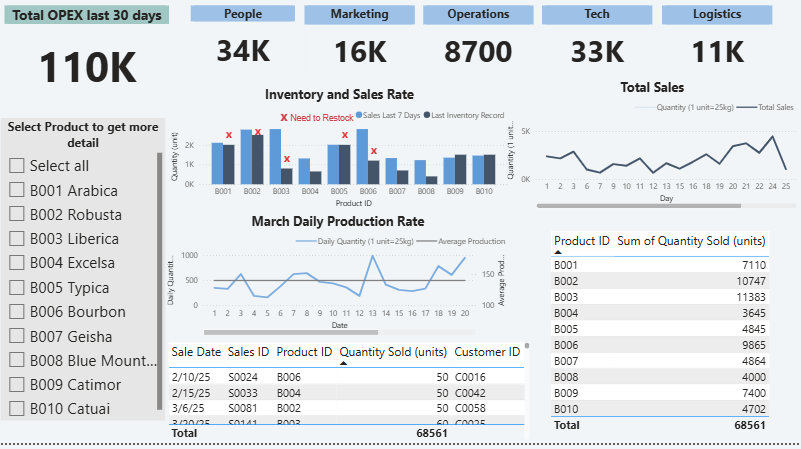

Layout of this report page (visuals, bound fields, positions):
{"tool":"powerbi","page":{"name":"Page 2","canvas":[1280,720],"ordinal":0},"visuals":[{"type":"card","title":"Total OPEX last 30 days","fields":{"Values":["OPEX.OPEX Last 30 days"]},"box":[27.6,34.5,257.7,158.7],"z":0},{"type":"card","title":"People","fields":{"Values":["OPEX.OPEX Last 30 days"]},"box":[319.8,34.5,163.3,115],"z":1000},{"type":"card","title":"Marketing","fields":{"Values":["OPEX.OPEX Last 30 days"]},"box":[496.9,34.5,172.5,115],"z":2000},{"type":"card","title":"Operations","fields":{"Values":["OPEX.OPEX Last 30 days"]},"box":[683.3,34.5,172.5,115],"z":3000},{"type":"card","title":"Tech","fields":{"Values":["OPEX.OPEX Last 30 days"]},"box":[869.6,34.5,172.5,115],"z":4000},{"type":"card","title":"Logistics","fields":{"Values":["OPEX.OPEX Last 30 days"]},"box":[1055.9,34.5,172.5,115],"z":5000},{"type":"clusteredColumnChart","title":"Inventory and Sales Rate","fields":{"Category":["Product Information.Product ID"],"Y":["Sales record.Sales Last 7 Days","Inventory.Last Inventory Record"]},"box":[283,161,536,197.8],"z":6000},{"type":"slicer","title":"Select Product to get more detail","fields":{"Values":["Product Information.ID+Name"]},"box":[20.7,211.6,257.7,473.9],"z":7000},{"type":"lineChart","title":"March Daily Production Rate","fields":{"Category":["Production Data.Production Date.Variation.Date Hierarchy.Day"],"Y":["Sum(Mar 2025 Production Data.Quantity (1 unit=25kg))"],"Y2":["Avg(Mar 2025 Production Data.Average Production)"]},"box":[278.4,358.9,542.9,197.8],"z":8000},{"type":"textbox","box":[431.6,196.5,167.9,32.2],"z":9000},{"type":"lineChart","title":"Total Sales","fields":{"Y":["Sales record.Sales Last 30 Days","Sales record.Total Sales"],"Category":["Date Table.Date.Variation.Date Hierarchy.Day"]},"box":[809.8,149.5,462.4,209.3],"z":10000},{"type":"tableEx","fields":{"Values":["Sales record.Product ID","Sum(Sales record.Quantity Sold (units))"]},"box":[876.2,383,356.9,336.5],"z":11000},{"type":"tableEx","fields":{"Values":["Sales record.Sale Date","Sales record.Sales ID","Sales record.Product ID","Sum(Sales record.Quantity Sold (units))","Sales record.Customer ID"]},"box":[278.5,557,577.4,162.5],"z":12000}]}

Visuals, with their boxes in screenshot pixels (x1, y1, x2, y2), scaled from the page's 1280x720 canvas onto the 801x449 screenshot:
"Total OPEX last 30 days" card: {"left": 17, "top": 22, "right": 179, "bottom": 120}
"People" card: {"left": 200, "top": 22, "right": 302, "bottom": 93}
"Marketing" card: {"left": 311, "top": 22, "right": 419, "bottom": 93}
"Operations" card: {"left": 428, "top": 22, "right": 536, "bottom": 93}
"Tech" card: {"left": 544, "top": 22, "right": 652, "bottom": 93}
"Logistics" card: {"left": 661, "top": 22, "right": 769, "bottom": 93}
"Inventory and Sales Rate" clusteredColumnChart: {"left": 177, "top": 100, "right": 513, "bottom": 224}
"Select Product to get more detail" slicer: {"left": 13, "top": 132, "right": 174, "bottom": 427}
"March Daily Production Rate" lineChart: {"left": 174, "top": 224, "right": 514, "bottom": 347}
textbox: {"left": 270, "top": 123, "right": 375, "bottom": 143}
"Total Sales" lineChart: {"left": 507, "top": 93, "right": 796, "bottom": 224}
tableEx - Sales record.Product ID x Sum(Sales record.Quantity Sold (units)): {"left": 548, "top": 239, "right": 772, "bottom": 448}
tableEx - Sales record.Sale Date x Sales record.Sales ID: {"left": 174, "top": 347, "right": 536, "bottom": 448}
